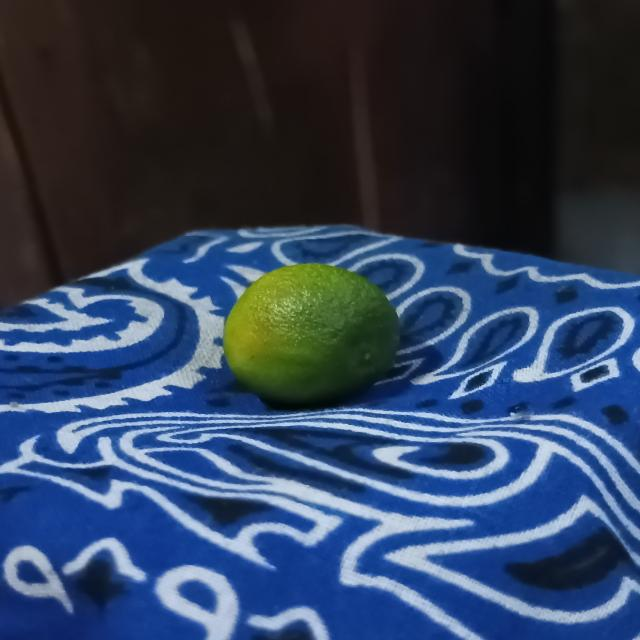heathy: (217, 253, 417, 406)
